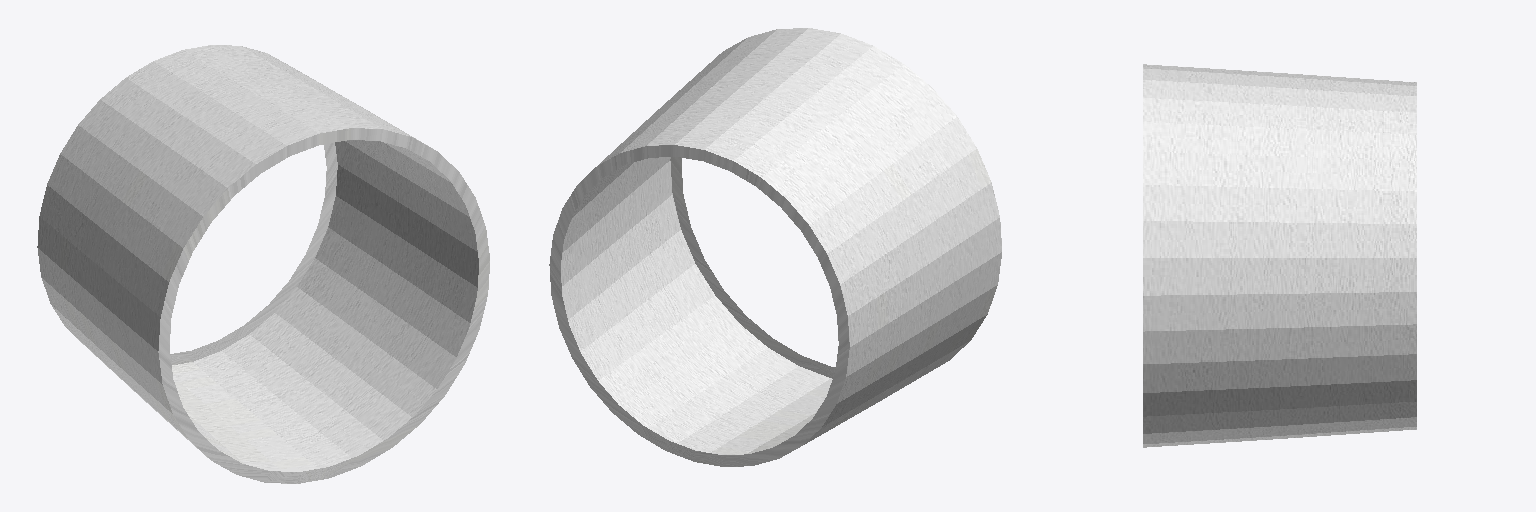
3 views of the same model, side by side, from view 1: azimuth 30°, elevation 25°; view 2: azimuth 150°, elevation 25°; view 3: azimuth 270°, elevation 25° (orthographic).
Bounding box in the file's own units: 0.4279 × 0.4279 × 0.3054.
1 materials, 1 textured.